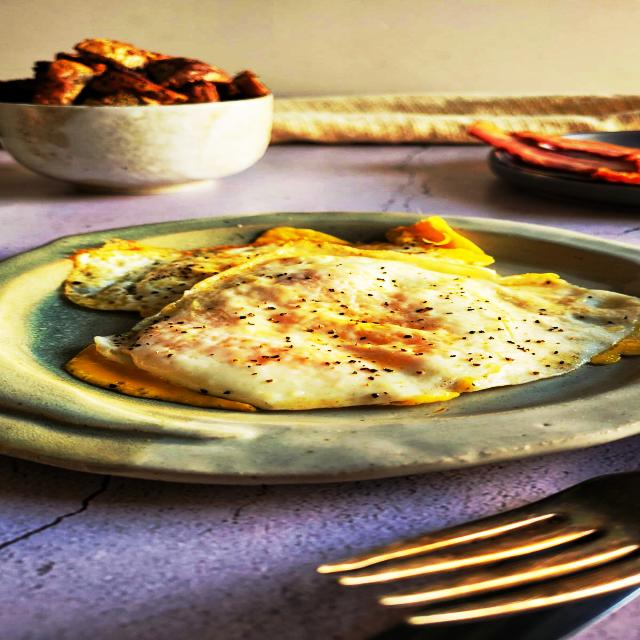fried_eggs: (59, 215, 636, 414)
